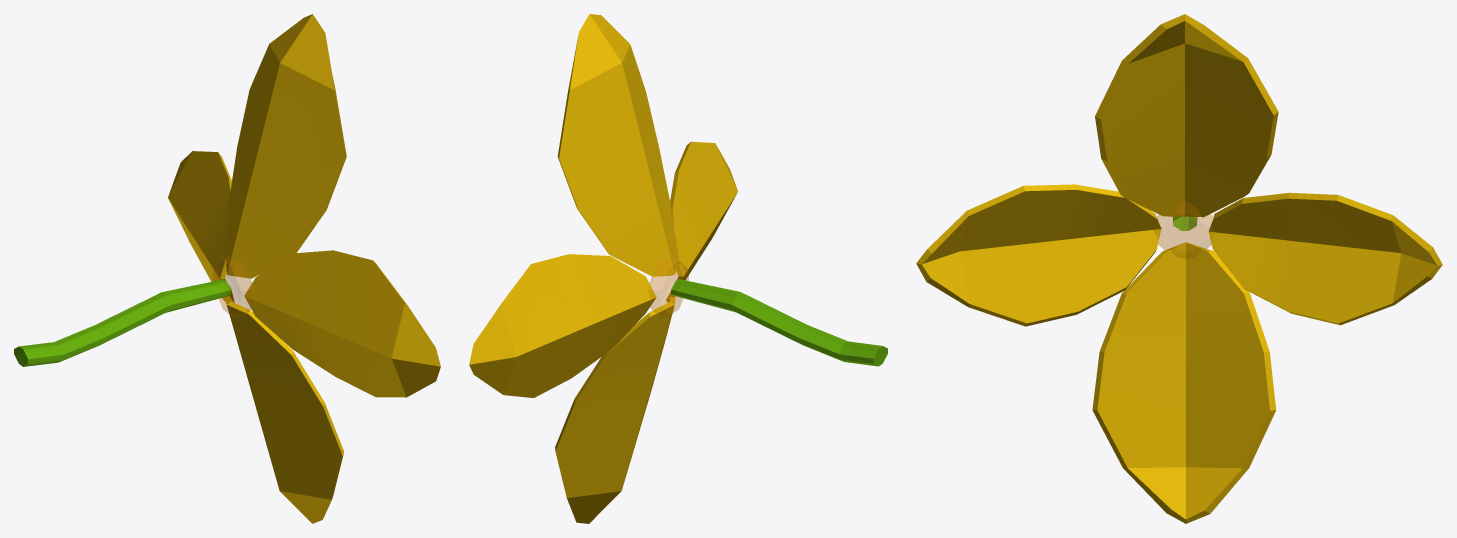
File: Flower.fbx
The picture shows the model from 3 angles, left to right: view 1: azimuth 30°, elevation 25°; view 2: azimuth 150°, elevation 25°; view 3: azimuth 270°, elevation 25°; orthographic projection.
Parts seen in each view (by area): view 1: Cube.001; view 2: Cube.001; view 3: Cube.001.
Boxes of the visible parts, x1,y1,x2,y2 form: Cube.001: [14, 14, 440, 523]; Cube.001: [469, 14, 887, 523]; Cube.001: [916, 14, 1442, 523].
Bounding box in the file's own units: 230 × 381 × 356.
